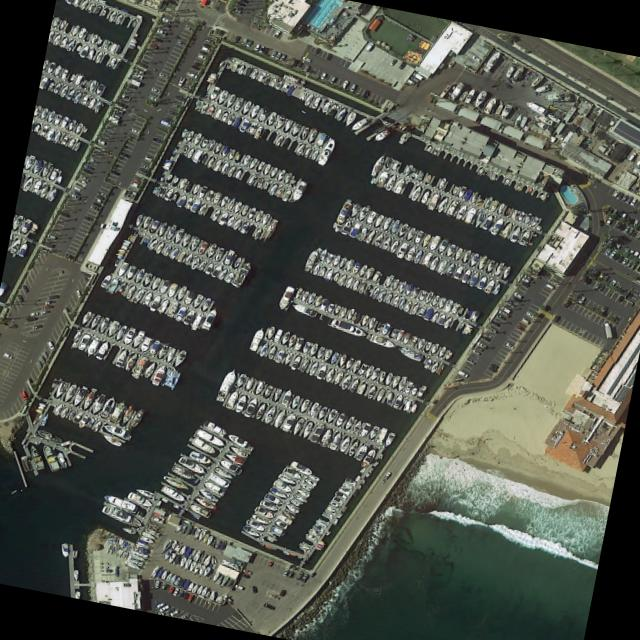large-vehicle: (603, 321, 613, 339), (628, 151, 637, 161), (366, 41, 374, 51)
ship: (100, 503, 143, 529), (327, 316, 368, 338), (214, 366, 238, 402), (101, 491, 139, 513), (231, 259, 254, 287), (194, 427, 226, 447), (177, 455, 208, 475), (40, 443, 61, 471), (317, 137, 338, 165), (226, 431, 255, 451), (160, 366, 183, 391), (102, 421, 132, 440), (26, 443, 46, 470), (161, 473, 191, 491), (160, 484, 188, 503), (366, 332, 397, 349), (36, 427, 64, 445), (126, 490, 154, 508), (276, 285, 296, 310), (260, 217, 279, 243), (248, 324, 266, 351), (191, 436, 217, 454), (483, 49, 503, 72), (397, 345, 424, 362), (99, 394, 118, 418), (369, 151, 387, 176), (202, 419, 228, 436), (217, 457, 243, 474), (171, 464, 197, 481), (290, 179, 309, 202), (109, 398, 127, 422), (201, 306, 219, 330), (335, 200, 353, 224), (202, 479, 227, 496), (90, 392, 108, 415), (188, 449, 212, 466), (291, 302, 318, 317), (188, 502, 213, 518), (289, 460, 314, 476), (360, 447, 379, 468), (127, 408, 145, 430), (85, 334, 102, 357), (448, 80, 466, 101), (309, 421, 326, 443), (281, 410, 298, 432), (151, 363, 168, 385), (318, 426, 335, 447), (243, 396, 259, 418), (304, 247, 320, 269), (207, 472, 230, 487), (525, 100, 548, 115), (194, 495, 216, 510), (198, 487, 220, 502), (349, 116, 371, 131), (172, 348, 188, 368), (71, 387, 87, 407), (81, 389, 97, 409), (133, 355, 149, 375), (95, 339, 111, 359), (372, 127, 392, 143), (473, 88, 489, 108), (225, 388, 240, 409), (62, 382, 77, 403), (124, 350, 139, 371), (508, 224, 524, 243), (291, 416, 306, 436), (329, 430, 344, 450), (273, 407, 288, 427), (263, 404, 278, 424), (53, 379, 68, 399), (115, 347, 130, 367), (120, 404, 135, 424), (224, 450, 244, 465), (376, 168, 391, 188), (259, 498, 280, 512), (254, 505, 275, 519), (214, 466, 235, 480), (273, 479, 294, 493), (282, 466, 303, 480), (101, 433, 123, 446), (143, 359, 158, 378), (445, 197, 460, 216), (490, 216, 505, 235), (229, 444, 249, 458), (427, 190, 441, 210), (77, 332, 92, 350), (122, 326, 137, 344), (131, 330, 146, 348), (483, 95, 498, 113), (511, 63, 526, 81), (395, 240, 410, 258), (148, 293, 163, 311), (355, 442, 369, 461), (347, 437, 361, 456), (269, 485, 288, 499), (436, 194, 450, 213), (472, 209, 486, 228), (134, 486, 156, 498), (264, 492, 284, 505), (246, 518, 266, 531), (174, 304, 189, 321), (106, 319, 121, 336), (19, 455, 34, 472), (106, 276, 121, 293), (339, 434, 353, 452), (301, 420, 315, 438), (114, 323, 128, 341), (393, 176, 407, 194), (500, 220, 514, 238), (9, 237, 23, 255), (235, 393, 248, 412), (251, 512, 270, 525), (278, 472, 297, 485), (529, 73, 545, 88), (325, 407, 339, 424), (156, 342, 170, 359), (147, 339, 161, 356), (182, 308, 196, 325), (191, 311, 205, 328), (98, 316, 112, 333), (464, 205, 478, 222), (518, 228, 532, 245), (20, 218, 34, 235), (254, 401, 267, 419), (280, 387, 293, 405), (385, 173, 398, 191), (500, 102, 513, 120), (12, 213, 25, 231), (24, 152, 37, 170), (242, 525, 261, 537), (80, 309, 94, 325), (139, 336, 153, 352), (543, 93, 571, 101), (265, 110, 279, 126), (340, 373, 353, 390), (164, 346, 177, 363), (175, 284, 188, 301), (89, 312, 102, 329), (456, 202, 469, 219), (410, 184, 423, 201), (344, 110, 357, 127), (468, 270, 481, 287), (167, 300, 180, 317), (224, 92, 237, 109), (223, 248, 236, 265), (165, 223, 178, 240), (389, 217, 401, 235), (429, 233, 441, 251), (158, 279, 172, 294), (123, 558, 142, 569), (343, 414, 356, 430), (359, 421, 372, 437), (316, 363, 329, 379), (56, 452, 69, 468), (183, 289, 196, 305), (356, 205, 369, 221), (463, 87, 476, 103), (166, 281, 179, 297), (133, 286, 146, 302), (216, 89, 229, 105), (258, 340, 270, 357), (384, 430, 396, 447), (482, 212, 494, 229), (536, 120, 553, 132), (17, 241, 29, 258), (134, 266, 146, 283), (276, 513, 294, 524), (350, 358, 363, 373), (191, 293, 204, 308), (373, 231, 386, 246), (484, 278, 497, 293), (100, 272, 113, 287), (116, 261, 129, 276), (125, 284, 138, 299), (232, 96, 245, 111), (21, 176, 34, 191), (31, 178, 44, 193), (244, 374, 256, 390), (290, 354, 302, 370), (308, 400, 320, 416), (368, 424, 380, 440), (393, 392, 405, 408), (349, 377, 361, 393), (333, 369, 345, 385), (308, 360, 320, 376), (365, 209, 377, 225), (349, 221, 361, 237), (341, 218, 353, 234), (397, 221, 409, 237), (405, 225, 417, 241), (436, 258, 448, 274), (453, 263, 465, 279), (477, 254, 489, 270), (421, 250, 433, 266), (405, 244, 417, 260), (206, 242, 218, 258), (125, 263, 137, 279), (316, 131, 328, 147), (284, 502, 300, 514), (144, 526, 161, 537), (213, 247, 226, 261), (48, 166, 61, 180), (44, 126, 57, 140), (396, 376, 408, 391), (267, 344, 279, 359), (272, 327, 284, 342), (308, 341, 320, 356), (322, 347, 334, 362), (363, 363, 375, 378), (370, 366, 382, 381), (316, 405, 328, 420), (366, 383, 378, 398), (161, 538, 173, 553), (381, 216, 393, 231), (373, 213, 385, 228), (349, 203, 361, 218), (336, 105, 348, 120), (303, 91, 315, 106), (445, 261, 457, 276), (477, 274, 489, 289), (445, 242, 457, 257), (437, 238, 449, 253), (413, 229, 425, 244), (423, 289, 435, 304), (364, 265, 376, 280), (389, 238, 401, 253), (158, 297, 170, 312), (209, 85, 221, 100), (142, 290, 154, 305), (190, 255, 202, 270), (128, 552, 146, 562), (125, 555, 143, 565), (47, 186, 59, 201), (32, 159, 44, 174), (249, 103, 261, 118), (383, 370, 394, 386), (275, 347, 286, 363), (290, 393, 301, 409), (299, 397, 310, 413), (352, 417, 363, 433), (538, 114, 554, 125), (494, 260, 505, 276), (157, 221, 168, 237), (270, 524, 286, 535), (281, 508, 297, 519), (65, 38, 78, 51), (38, 184, 51, 197), (235, 373, 247, 387), (334, 412, 346, 426), (200, 297, 212, 311), (174, 518, 186, 532), (423, 306, 435, 320), (394, 327, 406, 341), (380, 321, 392, 335), (468, 252, 480, 266), (452, 246, 464, 260), (381, 235, 393, 249), (239, 219, 251, 233), (197, 201, 209, 215), (190, 198, 202, 212), (176, 193, 188, 207), (192, 148, 204, 162), (197, 240, 209, 254), (142, 271, 154, 285), (150, 276, 162, 290), (189, 236, 201, 250), (59, 83, 71, 97), (92, 99, 104, 113), (40, 163, 52, 177), (51, 129, 63, 143), (241, 99, 253, 113), (238, 118, 250, 132), (253, 124, 265, 138), (274, 115, 286, 129), (258, 108, 270, 122), (263, 383, 274, 398), (272, 387, 283, 402), (283, 350, 294, 365), (265, 324, 276, 339), (280, 330, 291, 345), (287, 333, 298, 348), (325, 367, 336, 382), (390, 374, 401, 389), (420, 188, 431, 203), (365, 228, 376, 243), (311, 94, 322, 109), (546, 112, 561, 123), (413, 248, 424, 263), (429, 255, 440, 270), (501, 264, 512, 279), (461, 248, 472, 263), (421, 232, 432, 247), (443, 297, 454, 312), (344, 257, 355, 272), (181, 232, 192, 247), (173, 229, 184, 244), (139, 534, 155, 544), (141, 530, 157, 540), (293, 493, 309, 503), (217, 267, 229, 280), (65, 87, 77, 100), (87, 79, 99, 92), (58, 35, 70, 48), (295, 142, 307, 155), (254, 380, 265, 394), (294, 336, 305, 350), (315, 345, 326, 359), (329, 350, 340, 364), (337, 352, 348, 366), (344, 355, 355, 369), (384, 390, 395, 404), (78, 414, 89, 428), (489, 198, 500, 212), (313, 294, 324, 308), (377, 288, 388, 302), (415, 336, 426, 350), (461, 268, 472, 282), (485, 258, 496, 272), (397, 279, 408, 293), (384, 273, 395, 287), (318, 246, 329, 260), (253, 225, 264, 239), (218, 210, 229, 224), (211, 207, 222, 221), (226, 196, 237, 210), (268, 182, 279, 196), (220, 160, 231, 174), (213, 157, 224, 171), (192, 131, 203, 145), (141, 214, 152, 228), (197, 184, 208, 198), (155, 240, 166, 254), (184, 251, 195, 265), (211, 263, 222, 277), (72, 90, 83, 104), (46, 60, 57, 74), (307, 129, 318, 143), (300, 357, 310, 372), (296, 487, 311, 497), (303, 477, 318, 487), (192, 548, 203, 561), (357, 362, 368, 375), (162, 547, 173, 560), (53, 402, 64, 415), (92, 418, 103, 431), (437, 176, 448, 189), (371, 285, 382, 298), (391, 293, 402, 306), (443, 315, 454, 328), (417, 384, 428, 397), (437, 345, 448, 358), (367, 316, 378, 329), (345, 307, 356, 320), (450, 301, 461, 314), (358, 263, 369, 276), (331, 253, 342, 266), (248, 156, 259, 169), (276, 168, 287, 181), (232, 217, 243, 230), (164, 187, 175, 200), (253, 209, 264, 222), (246, 206, 257, 219), (241, 153, 252, 166), (220, 144, 231, 157), (310, 147, 321, 160), (282, 188, 293, 201), (247, 172, 258, 185), (206, 138, 217, 151), (149, 219, 160, 232), (133, 213, 144, 226), (117, 279, 128, 292), (212, 191, 223, 204), (148, 237, 159, 250), (162, 243, 173, 256), (169, 246, 180, 259), (204, 261, 215, 274), (52, 63, 63, 76), (80, 44, 91, 57), (38, 123, 49, 136), (67, 118, 78, 131), (39, 107, 50, 120), (52, 32, 63, 45), (274, 133, 285, 146), (299, 126, 310, 139), (291, 122, 302, 135), (283, 118, 294, 131), (114, 12, 125, 25), (301, 340, 311, 354), (377, 369, 387, 383), (376, 387, 386, 401), (40, 411, 50, 425), (338, 272, 348, 286), (345, 274, 355, 288), (307, 291, 317, 305), (60, 114, 70, 128), (274, 519, 288, 529), (133, 544, 148, 553), (201, 565, 212, 577), (196, 529, 207, 541), (319, 298, 330, 310), (429, 360, 440, 372), (226, 214, 237, 226), (255, 176, 266, 188), (178, 177, 189, 189), (80, 93, 91, 105), (94, 82, 105, 94), (59, 67, 70, 79), (52, 113, 63, 125), (247, 121, 258, 133), (86, 1, 97, 13), (60, 405, 70, 418), (73, 410, 83, 423), (150, 564, 160, 577), (404, 380, 414, 393), (470, 190, 480, 203), (463, 187, 473, 200), (457, 185, 467, 198), (404, 163, 414, 176), (483, 195, 493, 208), (496, 201, 506, 214), (328, 102, 338, 115), (294, 286, 304, 299), (358, 281, 368, 294), (411, 301, 421, 314), (430, 309, 440, 322), (403, 398, 413, 411), (430, 341, 440, 354), (402, 331, 412, 344), (360, 313, 370, 326), (437, 295, 447, 308), (404, 282, 414, 295), (262, 162, 272, 175), (283, 171, 293, 184), (276, 184, 286, 197), (227, 164, 237, 177), (206, 155, 216, 168), (233, 200, 243, 213), (261, 212, 271, 225), (177, 249, 187, 262), (198, 258, 208, 271), (74, 72, 84, 85), (232, 115, 242, 128), (71, 23, 81, 36), (77, 26, 87, 39), (107, 9, 117, 22), (314, 518, 328, 527), (312, 261, 321, 275), (150, 515, 164, 524), (459, 89, 470, 100), (86, 48, 97, 59), (182, 557, 192, 569), (192, 561, 202, 573), (203, 553, 213, 565), (211, 570, 221, 582), (357, 382, 367, 394), (67, 408, 77, 420), (122, 526, 137, 534), (183, 524, 193, 536), (410, 383, 420, 395), (398, 131, 408, 143), (523, 212, 533, 224), (322, 100, 332, 112), (325, 267, 335, 279), (398, 297, 408, 309), (404, 299, 414, 311), (418, 304, 428, 316), (409, 335, 419, 347), (437, 312, 447, 324), (492, 282, 502, 294), (371, 270, 381, 282), (351, 262, 361, 274), (156, 185, 166, 197), (184, 196, 194, 208), (240, 204, 250, 216), (219, 195, 229, 207), (225, 270, 235, 282), (205, 189, 215, 201), (87, 96, 97, 108), (94, 50, 104, 62), (46, 110, 56, 122), (60, 133, 70, 145), (213, 106, 223, 118), (226, 113, 236, 125), (303, 145, 313, 157), (61, 542, 69, 557), (338, 485, 351, 494), (335, 490, 348, 499), (298, 541, 311, 550), (308, 527, 321, 536), (300, 289, 309, 302), (352, 277, 361, 290), (391, 277, 400, 290), (233, 255, 242, 268), (75, 121, 84, 134), (307, 472, 320, 481), (534, 85, 550, 92), (197, 564, 207, 575), (167, 552, 177, 563), (192, 527, 202, 538), (423, 357, 433, 368), (256, 160, 266, 171), (269, 166, 279, 177), (191, 183, 201, 194), (108, 56, 118, 67), (58, 18, 68, 29), (345, 476, 357, 485), (188, 559, 197, 571), (231, 59, 240, 71), (505, 65, 514, 77), (431, 294, 440, 306), (418, 289, 427, 301), (411, 286, 420, 298), (338, 256, 347, 268), (325, 252, 334, 264), (227, 148, 236, 160), (187, 146, 196, 158), (186, 129, 195, 141), (200, 102, 209, 114), (289, 497, 301, 506), (305, 533, 318, 541), (312, 523, 325, 531), (514, 113, 522, 126), (299, 482, 312, 490), (213, 142, 223, 152), (179, 543, 188, 554), (50, 377, 59, 388), (86, 416, 95, 427), (201, 532, 210, 543), (205, 534, 214, 545), (196, 583, 205, 594), (155, 567, 164, 578), (391, 159, 400, 170), (530, 215, 539, 226), (510, 208, 519, 219), (495, 103, 504, 114), (269, 76, 278, 87), (237, 63, 246, 74), (339, 306, 348, 317), (445, 349, 454, 360), (103, 38, 112, 49), (90, 33, 99, 44), (53, 82, 62, 93), (52, 16, 61, 27), (79, 0, 90, 9), (342, 481, 354, 489), (332, 495, 344, 503), (200, 585, 209, 595), (191, 583, 200, 593), (169, 573, 178, 583), (385, 156, 394, 166), (514, 181, 523, 191), (257, 71, 266, 81), (180, 127, 189, 137), (67, 137, 76, 147), (73, 141, 82, 151), (206, 105, 215, 115), (220, 111, 229, 121), (326, 504, 337, 512), (161, 568, 169, 579), (517, 210, 525, 221), (299, 89, 307, 100), (263, 74, 271, 85), (251, 68, 259, 79), (322, 510, 334, 517), (59, 439, 71, 446), (333, 304, 342, 313), (47, 81, 56, 90), (358, 465, 367, 474), (93, 5, 102, 14), (180, 145, 189, 154), (200, 138, 209, 147), (182, 578, 190, 588), (174, 575, 182, 585), (165, 571, 173, 581), (451, 184, 459, 194), (490, 170, 498, 180), (275, 79, 283, 89), (319, 266, 327, 276), (327, 302, 335, 312), (410, 402, 418, 412), (424, 340, 432, 350), (56, 174, 64, 184), (235, 168, 243, 178), (109, 42, 117, 52), (187, 581, 195, 590), (424, 173, 432, 182), (432, 146, 440, 155), (503, 176, 511, 185), (333, 271, 340, 281), (209, 589, 215, 600), (74, 568, 80, 579), (113, 258, 121, 266), (97, 36, 105, 44), (130, 19, 138, 27), (131, 372, 140, 379), (505, 206, 512, 215), (69, 72, 76, 80), (82, 125, 89, 133), (282, 549, 290, 556), (372, 459, 380, 466), (214, 594, 221, 602), (477, 167, 484, 175), (171, 193, 178, 201), (266, 536, 275, 542), (72, 0, 81, 6), (76, 44, 83, 51), (337, 511, 344, 518), (235, 152, 242, 159), (526, 186, 533, 193), (166, 173, 173, 180), (333, 517, 339, 525), (156, 498, 162, 506), (73, 549, 78, 558), (355, 474, 361, 481), (368, 466, 375, 472), (458, 322, 464, 329), (81, 385, 88, 391), (173, 176, 179, 183), (99, 0, 107, 5), (427, 145, 433, 151), (378, 453, 384, 459), (268, 530, 274, 536), (365, 471, 371, 477), (218, 596, 223, 603), (360, 479, 366, 484), (66, 0, 73, 4), (528, 241, 533, 244)
small-vehicle: (543, 281, 556, 290), (407, 78, 419, 87), (515, 323, 527, 332), (157, 71, 170, 79), (185, 70, 198, 78), (155, 27, 168, 35), (20, 389, 29, 400), (46, 339, 55, 350), (231, 6, 242, 15), (476, 340, 488, 348), (457, 370, 469, 378), (168, 609, 180, 617), (148, 42, 160, 50), (170, 101, 182, 109), (152, 136, 164, 144), (604, 215, 613, 225), (412, 71, 423, 79), (521, 276, 532, 284), (498, 308, 509, 316), (161, 16, 172, 24), (177, 75, 185, 86), (263, 602, 275, 609), (158, 604, 170, 611), (196, 52, 208, 59), (110, 112, 122, 119), (166, 109, 178, 116), (146, 94, 158, 101), (617, 254, 626, 263), (578, 295, 587, 304), (389, 57, 398, 66), (447, 59, 456, 68), (300, 573, 309, 582), (38, 354, 47, 363), (40, 349, 49, 358), (621, 192, 629, 202), (629, 196, 637, 206), (627, 226, 635, 236), (632, 218, 640, 228), (617, 190, 625, 200), (341, 79, 349, 89), (349, 82, 357, 92), (472, 54, 482, 62), (296, 570, 304, 580), (282, 567, 290, 577), (186, 592, 194, 602), (525, 310, 536, 317), (471, 348, 482, 355), (3, 352, 14, 359), (202, 41, 213, 48), (198, 48, 209, 55), (200, 45, 211, 52), (204, 37, 215, 44), (183, 24, 194, 31), (235, 0, 246, 7), (233, 3, 244, 10), (151, 86, 162, 93), (94, 193, 105, 200), (84, 163, 95, 170), (97, 138, 108, 145), (160, 119, 171, 126), (163, 115, 174, 122), (160, 581, 168, 590), (614, 220, 622, 229), (623, 224, 631, 233), (598, 283, 606, 292), (601, 273, 609, 282), (273, 29, 281, 38), (313, 46, 321, 55), (505, 341, 514, 349), (384, 470, 392, 479), (245, 38, 253, 47), (35, 359, 43, 368), (43, 303, 55, 309), (182, 591, 190, 600), (617, 295, 626, 303), (174, 94, 186, 100), (302, 55, 312, 62), (410, 75, 420, 82), (512, 290, 522, 297), (242, 568, 252, 575), (234, 583, 244, 590), (180, 612, 190, 619), (251, 20, 261, 27), (75, 288, 82, 298), (176, 39, 186, 46), (91, 200, 101, 207), (89, 204, 99, 211), (97, 189, 107, 196), (139, 162, 149, 169), (131, 127, 141, 134), (32, 323, 43, 329), (40, 308, 51, 314), (120, 151, 131, 157), (613, 252, 621, 260), (613, 189, 621, 197), (609, 250, 617, 258), (274, 51, 282, 59), (399, 61, 407, 69), (605, 247, 612, 256), (622, 256, 629, 265), (594, 281, 601, 290), (598, 271, 605, 280), (326, 51, 333, 60), (498, 313, 507, 320), (155, 602, 165, 608), (26, 315, 36, 321), (29, 310, 39, 316), (48, 294, 60, 299), (47, 232, 57, 238), (253, 17, 263, 23), (70, 193, 80, 199), (79, 175, 89, 181), (630, 261, 637, 269), (258, 45, 265, 53), (320, 71, 327, 79), (279, 588, 286, 596), (242, 37, 249, 45), (17, 293, 24, 301), (23, 284, 30, 292), (168, 585, 175, 593), (173, 587, 180, 595), (177, 589, 184, 597), (45, 299, 56, 304), (73, 185, 82, 191), (89, 157, 98, 163), (93, 197, 103, 202), (271, 50, 278, 57), (329, 76, 336, 83), (287, 570, 294, 577), (610, 279, 617, 286), (279, 54, 287, 60), (303, 64, 309, 72), (73, 189, 81, 195), (626, 260, 632, 267), (254, 43, 260, 50), (252, 585, 258, 592), (155, 579, 160, 587), (239, 0, 249, 4)
